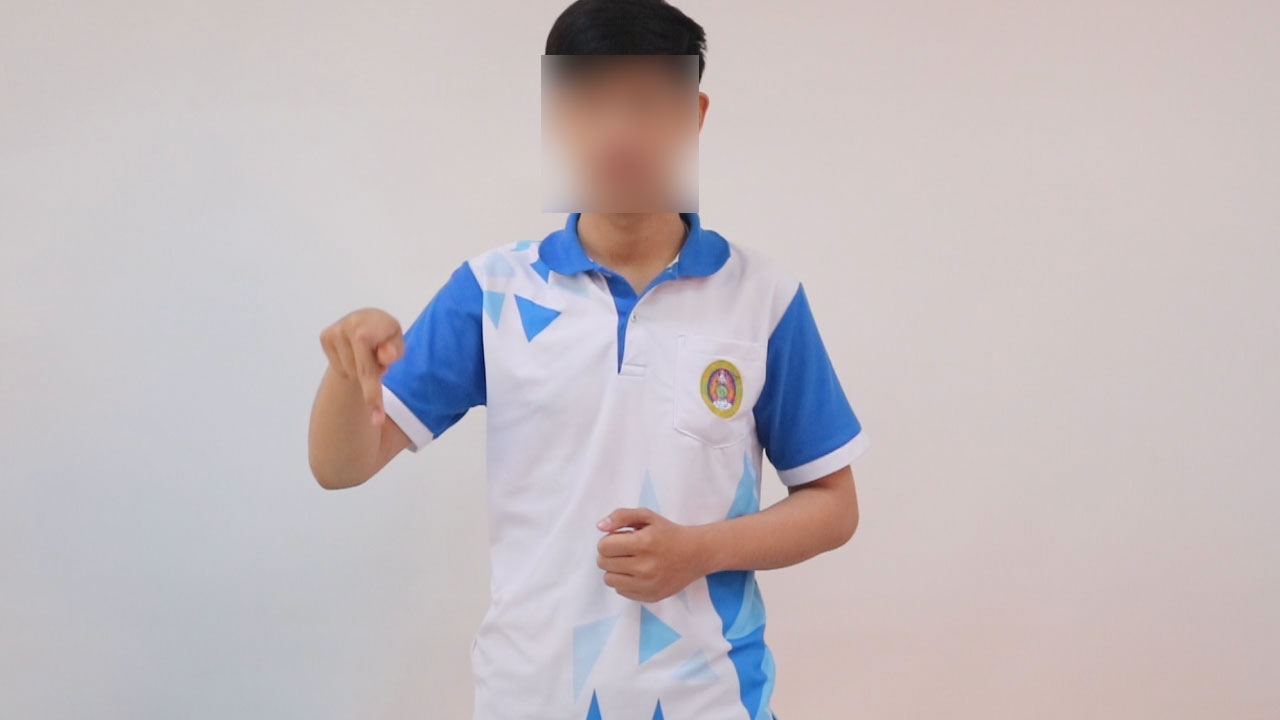por: (320, 291, 413, 432)
